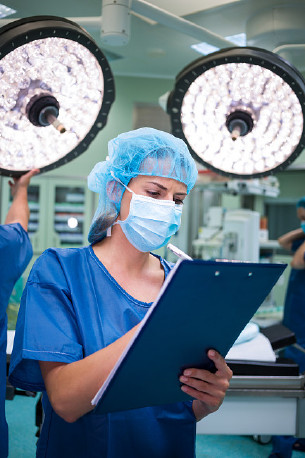face_mask: (119, 178, 186, 252)
